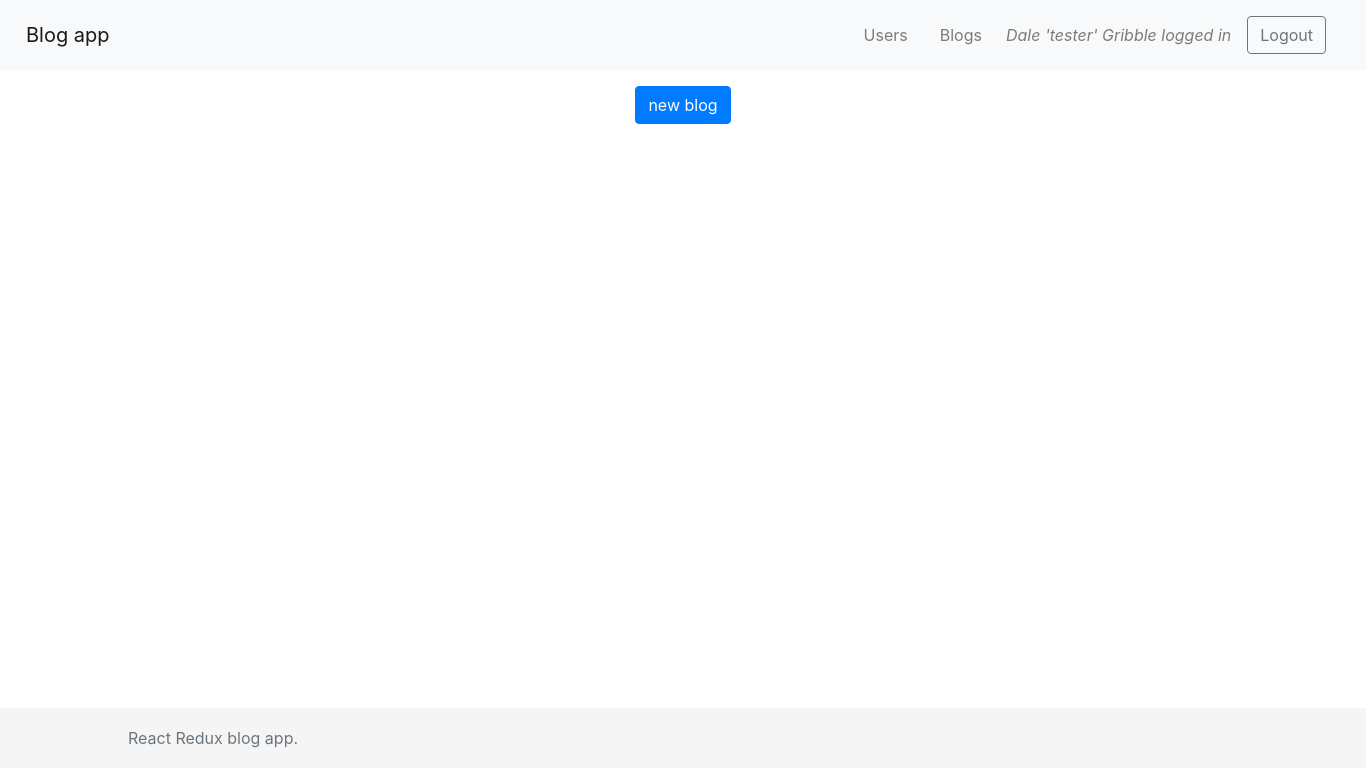
Scenario: <App /> › when user is logged in › user can logout
The width and height of the screenshot is (1366, 768).
Click the button "Logout". click: [1287, 35]
box: [1247,16,1326,54]
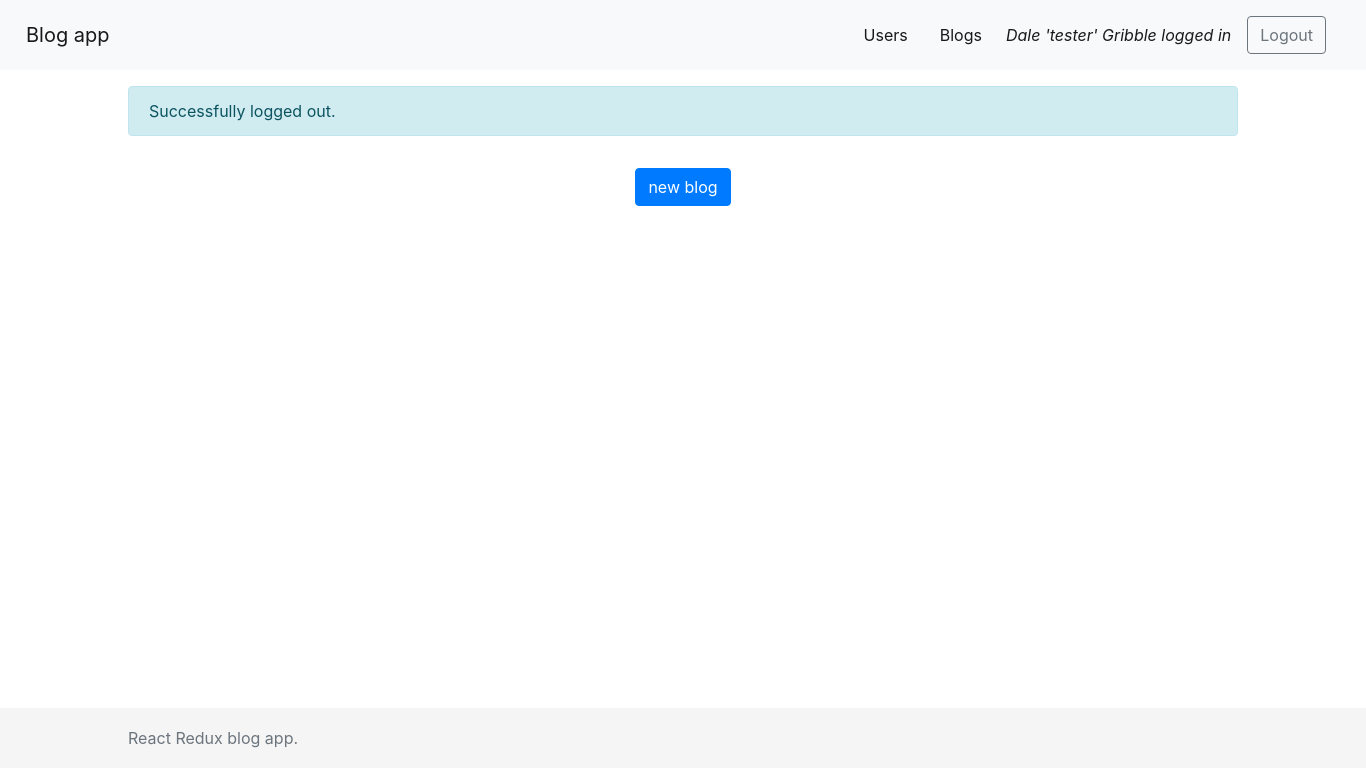
Check: the text "Successfully logged out" is shown, box [149,101,336,121]
